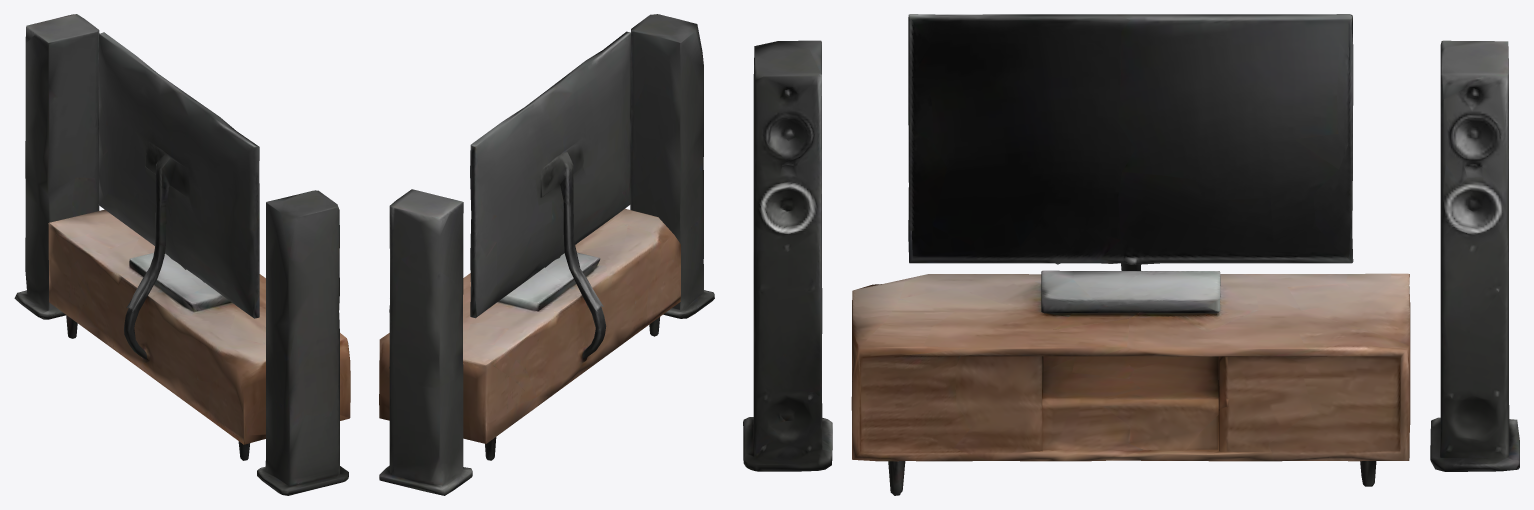
The model's file is tv-wall.glb.
The picture shows the model from 3 angles, left to right: view 1: azimuth 30°, elevation 25°; view 2: azimuth 150°, elevation 25°; view 3: azimuth 270°, elevation 25°; orthographic projection. The views are drawn at different scales.
Visible parts, largest first — view 1: tripo_node_1f2e282b-df61-40ae-99c3-dff7d9415f8e; view 2: tripo_node_1f2e282b-df61-40ae-99c3-dff7d9415f8e; view 3: tripo_node_1f2e282b-df61-40ae-99c3-dff7d9415f8e.
Boxes of the visible parts, x1,y1,x2,y2 form: tripo_node_1f2e282b-df61-40ae-99c3-dff7d9415f8e: (14, 14, 350, 495); tripo_node_1f2e282b-df61-40ae-99c3-dff7d9415f8e: (379, 14, 714, 495); tripo_node_1f2e282b-df61-40ae-99c3-dff7d9415f8e: (743, 14, 1519, 495).
Size of the model in its own units: 0.2712 by 0.6173 by 1.
1 material, 1 textured.
